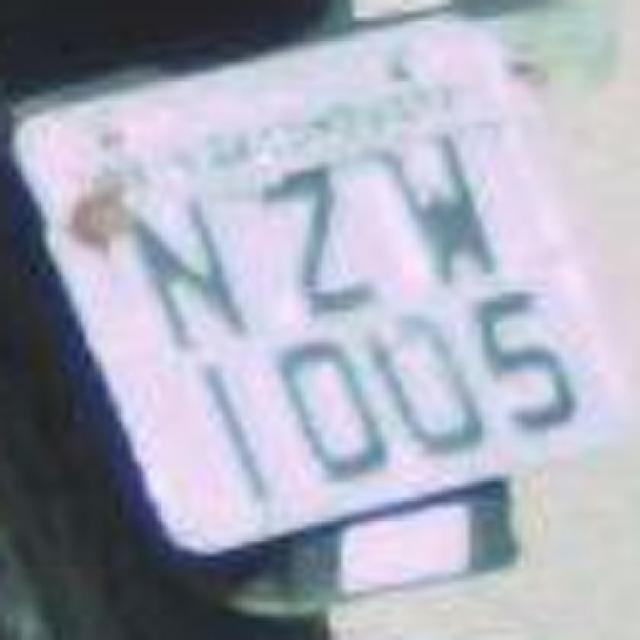0: (256, 312, 416, 500), (352, 292, 500, 472)
1: (180, 344, 300, 508)
5: (452, 275, 592, 440)
N: (108, 176, 264, 369)
W: (380, 112, 505, 296)
Z: (244, 144, 384, 324)
